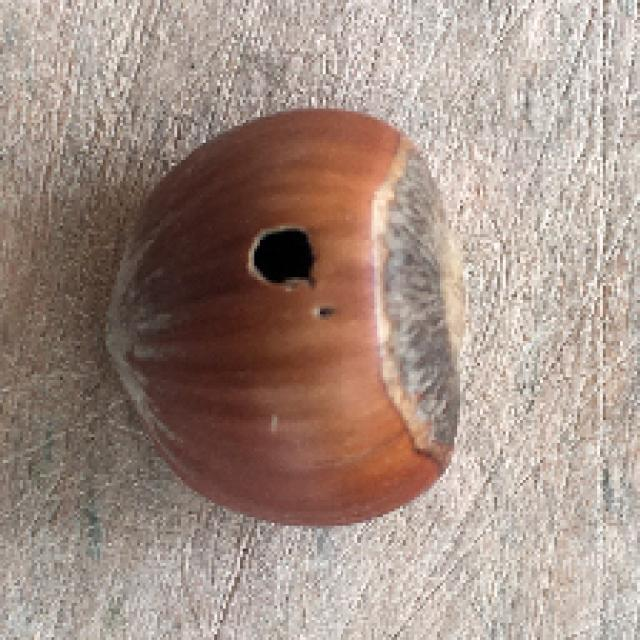damagedHazelnut: (84, 110, 481, 529)
